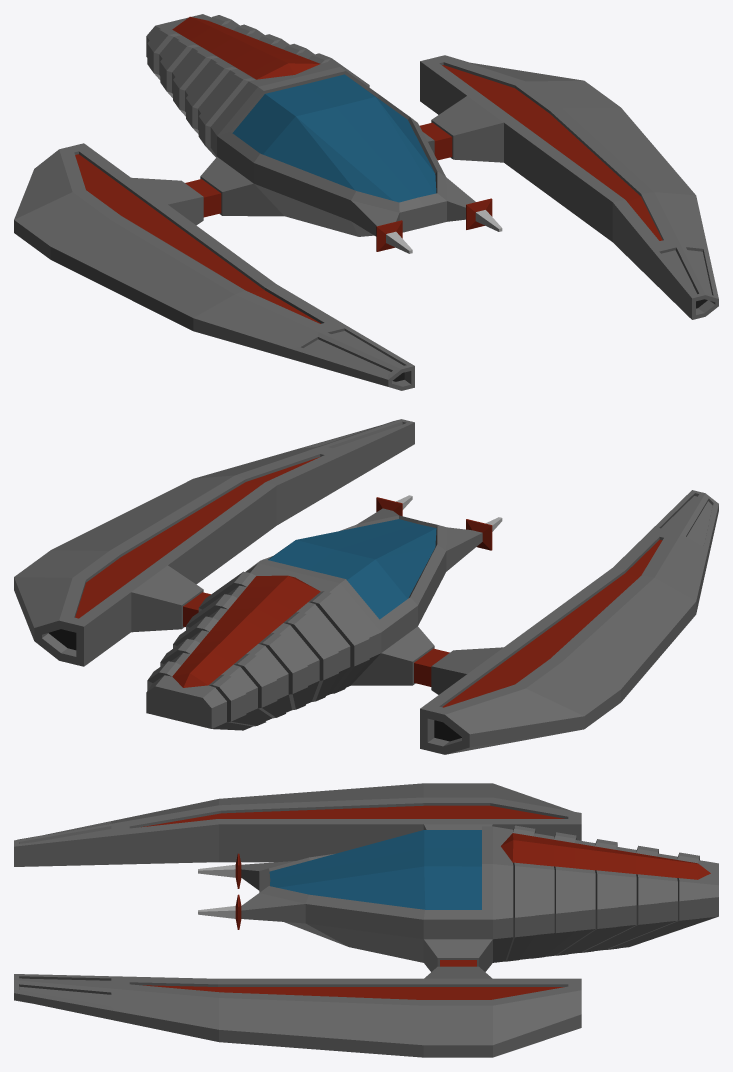
File: spaceship_enemy_01.fbx
The picture shows the model from 3 angles, top to bottom: view 1: azimuth 30°, elevation 25°; view 2: azimuth 150°, elevation 25°; view 3: azimuth 270°, elevation 25°; orthographic projection. The views are drawn at different scales.
Visible parts, largest first — view 1: 2; view 2: 2; view 3: 2.
Part boxes in pixels (x1,y1,x2,y2): 2: (14, 14, 718, 390); 2: (14, 419, 718, 754); 2: (14, 783, 718, 1057).
Bounding box in the file's own units: 1199 × 212 × 1364.
Materials: 1 (1 with a texture image).
